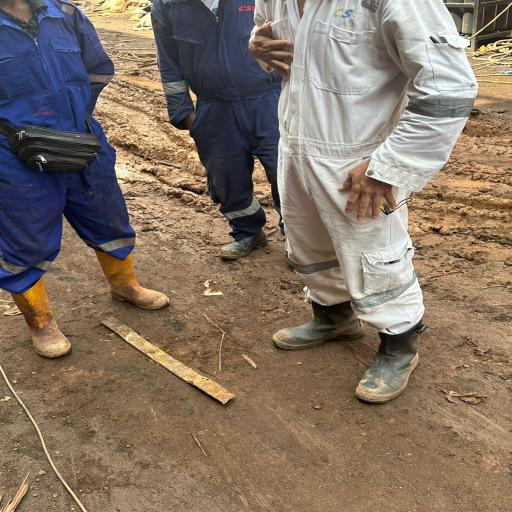safety_shoe: (2, 284, 83, 362), (92, 242, 180, 313), (356, 323, 422, 408), (273, 297, 364, 351), (215, 216, 269, 262)
